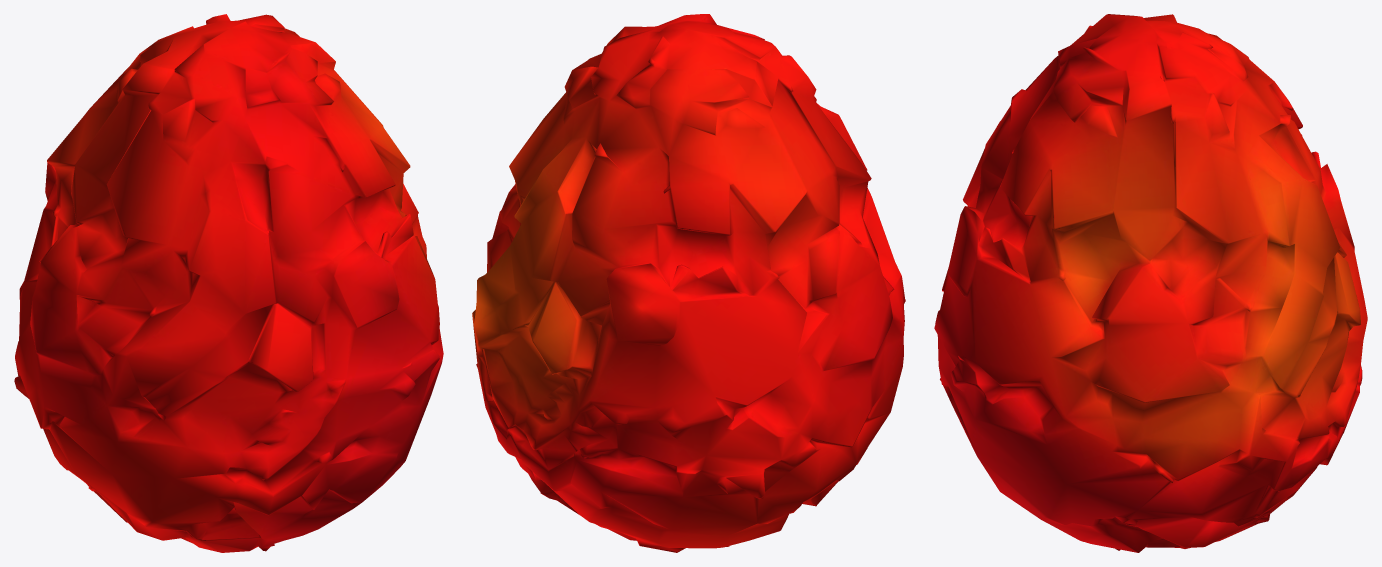
The picture shows the model from 3 angles, left to right: view 1: azimuth 30°, elevation 25°; view 2: azimuth 150°, elevation 25°; view 3: azimuth 270°, elevation 25°; orthographic projection.
Parts seen in each view (by area): view 1: tripo_node_80d369ff-751f-475d-bc10-79bf26d1be9e; view 2: tripo_node_80d369ff-751f-475d-bc10-79bf26d1be9e; view 3: tripo_node_80d369ff-751f-475d-bc10-79bf26d1be9e.
Part boxes in pixels (bbox=[...]): tripo_node_80d369ff-751f-475d-bc10-79bf26d1be9e: bbox=[14, 14, 443, 552]; tripo_node_80d369ff-751f-475d-bc10-79bf26d1be9e: bbox=[472, 14, 905, 552]; tripo_node_80d369ff-751f-475d-bc10-79bf26d1be9e: bbox=[934, 14, 1367, 552].
Size of the model in its own units: 0.7828 by 1 by 0.775.
Materials: 1 (1 with a texture image).
